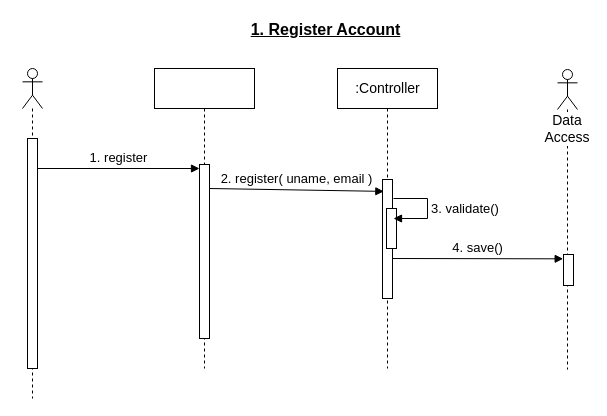
The diagram is 607 pixels wide and 416 high, and some of its shapes have lost their labels. Each missing label, with the box of its shape:
:RegisterForm: (154, 68, 254, 368)
User: (22, 68, 42, 398)
